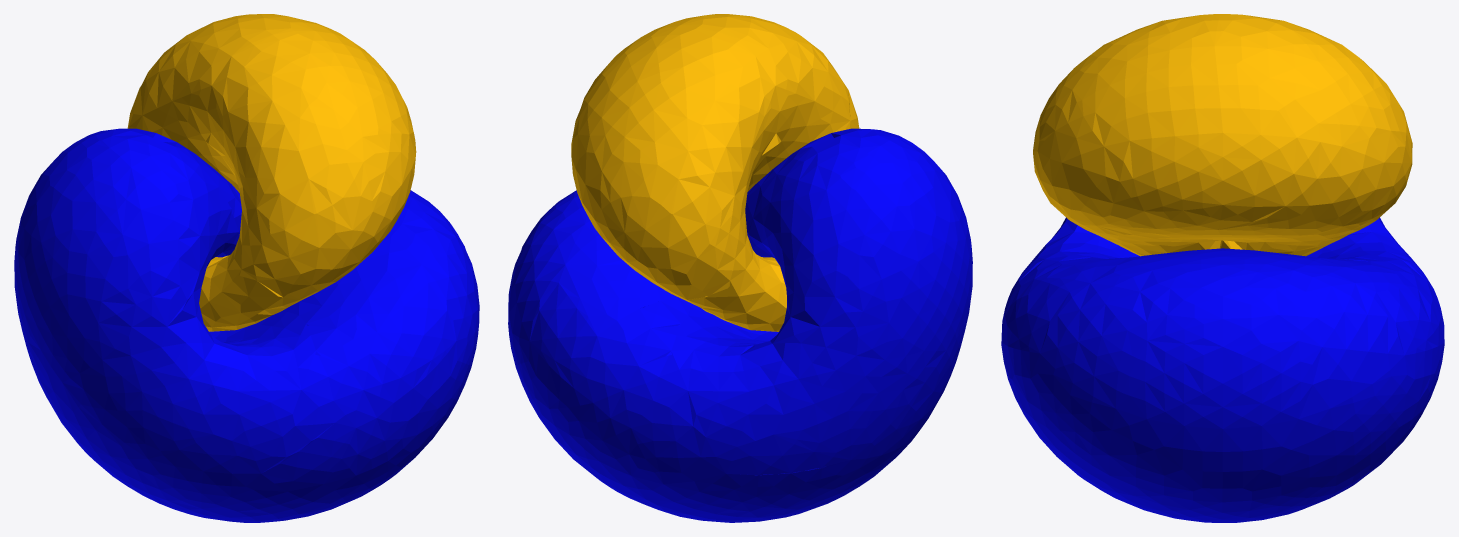
3 renders of one model, left to right at view 1: azimuth 30°, elevation 25°; view 2: azimuth 150°, elevation 25°; view 3: azimuth 270°, elevation 25°, orthographic. The views are drawn at different scales.
Bounding box in the file's own units: 21.55 × 22.91 × 18.84.
